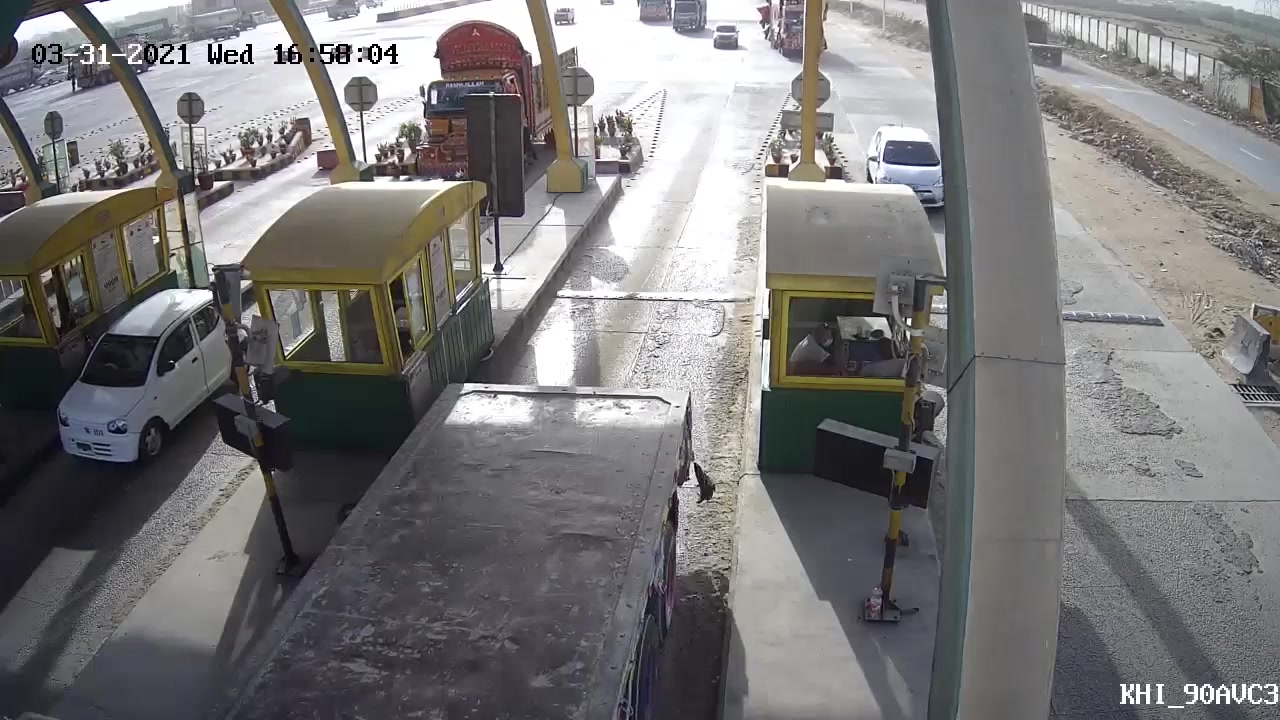F1: (699, 14, 751, 52)
